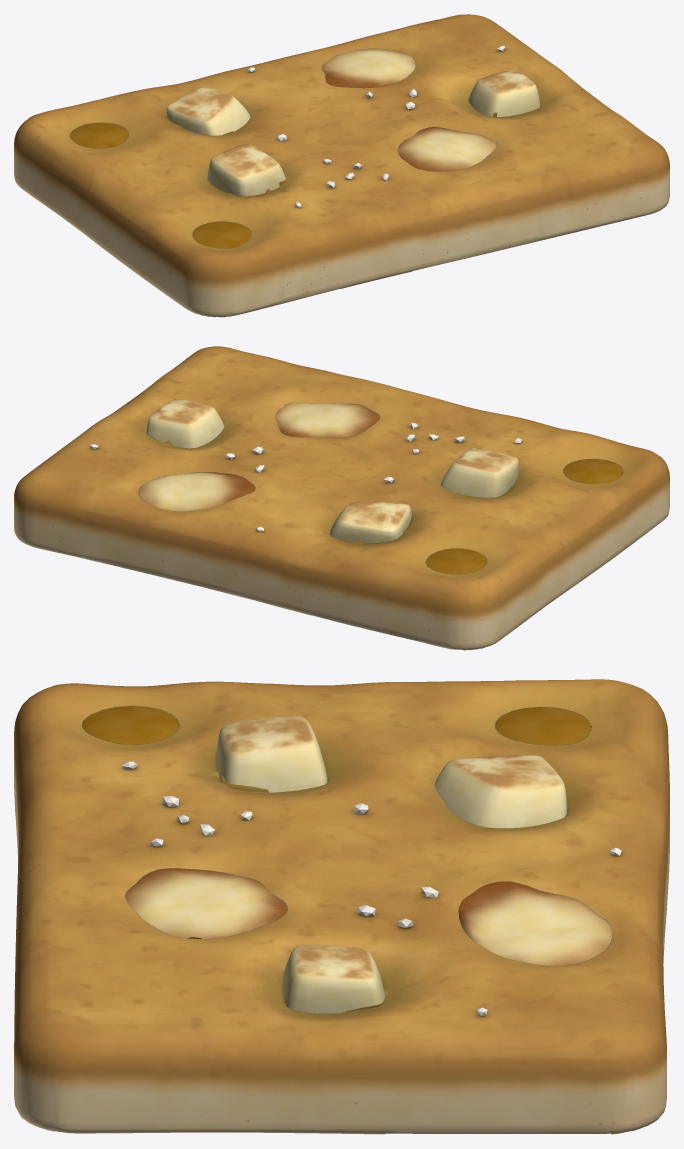
The model's file is focaccia--cheese-cube.glb.
3 views of the same model, one above another, from view 1: azimuth 30°, elevation 25°; view 2: azimuth 150°, elevation 25°; view 3: azimuth 270°, elevation 25° (orthographic). The views are drawn at different scales.
Parts seen in each view (by area): view 1: focaccia_cheese-cube; view 2: focaccia_cheese-cube; view 3: focaccia_cheese-cube.
Part boxes in pixels (x1=…): focaccia_cheese-cube: x1=14, y1=14, x2=669, y2=317; focaccia_cheese-cube: x1=14, y1=346, x2=669, y2=650; focaccia_cheese-cube: x1=14, y1=679, x2=669, y2=1134.
Bounding box in the file's own units: 1.01 × 0.1637 × 0.7441.
1 material, 1 textured.
